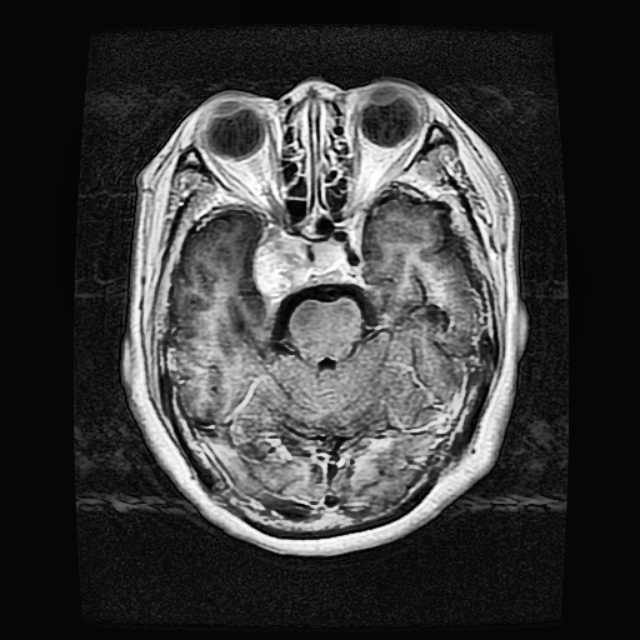Pituitary: (253, 224, 310, 299)
